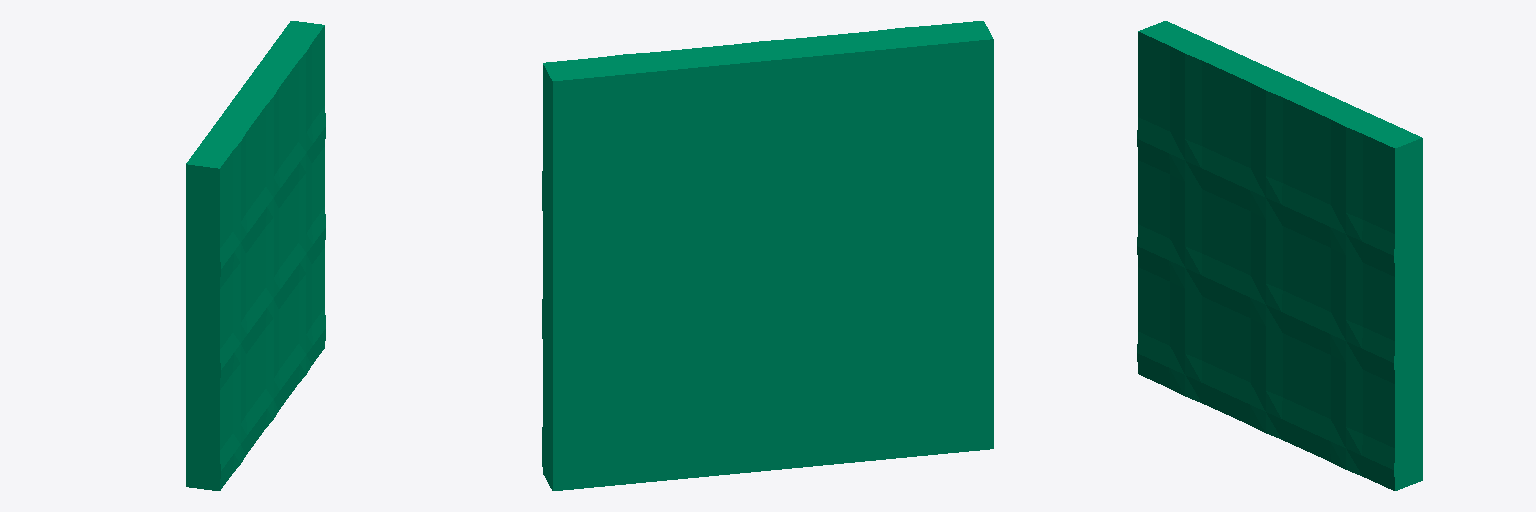
The robot description file, URDF, robot "navstar":
<?xml version='1.0' encoding='utf-8'?>
<robot name="navstar">
  <link name="base_link">
    <visual>
      <geometry>
        <mesh filename="satellite.stl" />
      </geometry>
    </visual>
    <collision>
      <geometry>
        <mesh filename="satellite.stl" />
      </geometry>
    </collision>
  </link>
  <link name="navstar_mount" />
  <joint name="satellite_mount_fixed" type="fixed">
    <parent link="base_link" />
    <child link="navstar_mount" />
    <origin xyz="-0.06259960387694356 0.04391826006281371 0.9515232222782899" rpy="-0.823698879557603 -1.5707963267948966 0.0" />
  </joint>
  <link name="mount_support">
    <visual>
      <geometry>
        <mesh filename="mount_support.stl" />
      </geometry>
    </visual>
    <collision>
      <geometry>
        <mesh filename="mount_support.stl" />
      </geometry>
    </collision>
  </link>
  <joint name="support_fixed" type="fixed">
    <parent link="navstar_mount" />
    <child link="mount_support" />
    <origin xyz="0 0 0" rpy="0 0 0" />
  </joint>
</robot>

--- What the picture shows (computed from the rendered views, not written in the file) ---
3 views of the same robot in one strip: view 1: azimuth 30°, elevation 25°; view 2: azimuth 150°, elevation 25°; view 3: azimuth 270°, elevation 25° (orthographic).
Model navstar with 3 links and 2 joints (2 fixed), rooted at base_link, posed all joints at 0.
Links seen in each view (by area): view 1: mount_support; view 2: mount_support; view 3: mount_support.
Boxes of the visible links, box(x1,y1,x2,y2) form: mount_support: box(186, 21, 325, 490); mount_support: box(542, 21, 993, 490); mount_support: box(1137, 21, 1422, 490).
Bounding box of the posed robot: 0.3215 × 0.3021 × 0.4 m (x, y, z).
1 mesh visuals loaded from 2 distinct referenced files (1 binary STL); not drawn: 1 (reference not matched to a file when rendering).
